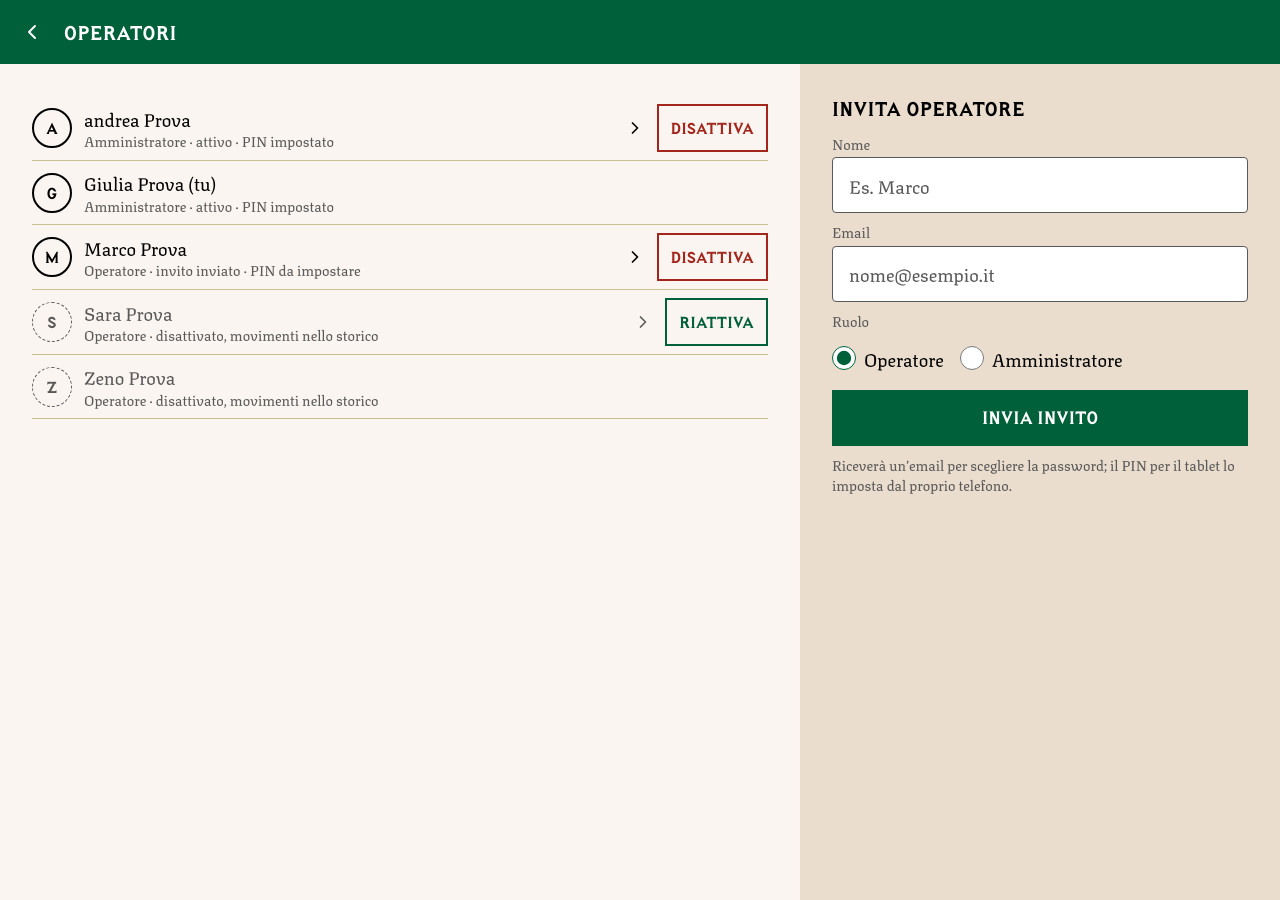
Test: OperatorsPage: Disattiva e Riattiva › deactivates an invited person too
What coordinates should you click on to do the following:
click the 2nd button "Disattiva"
I would click on:
 (712, 257)
Its box is [656,233,768,281].
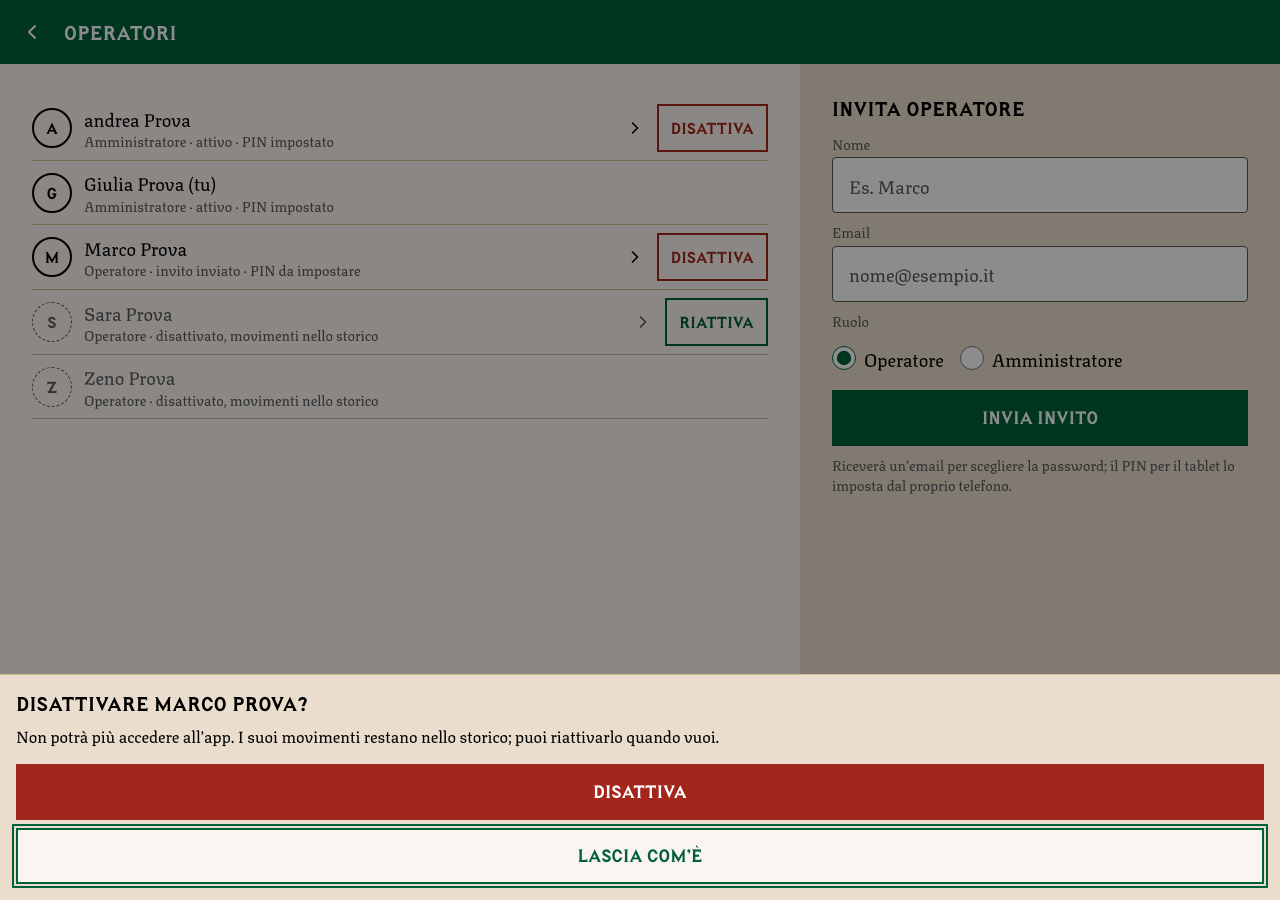
Expected: the heading "Disattivare Marco Prova?" is shown, [16,692,308,715]
What coordinates should you click on to do the following:
click the button "Disattiva"
I would click on:
 (640, 792)
Its box is [16,764,1264,820].
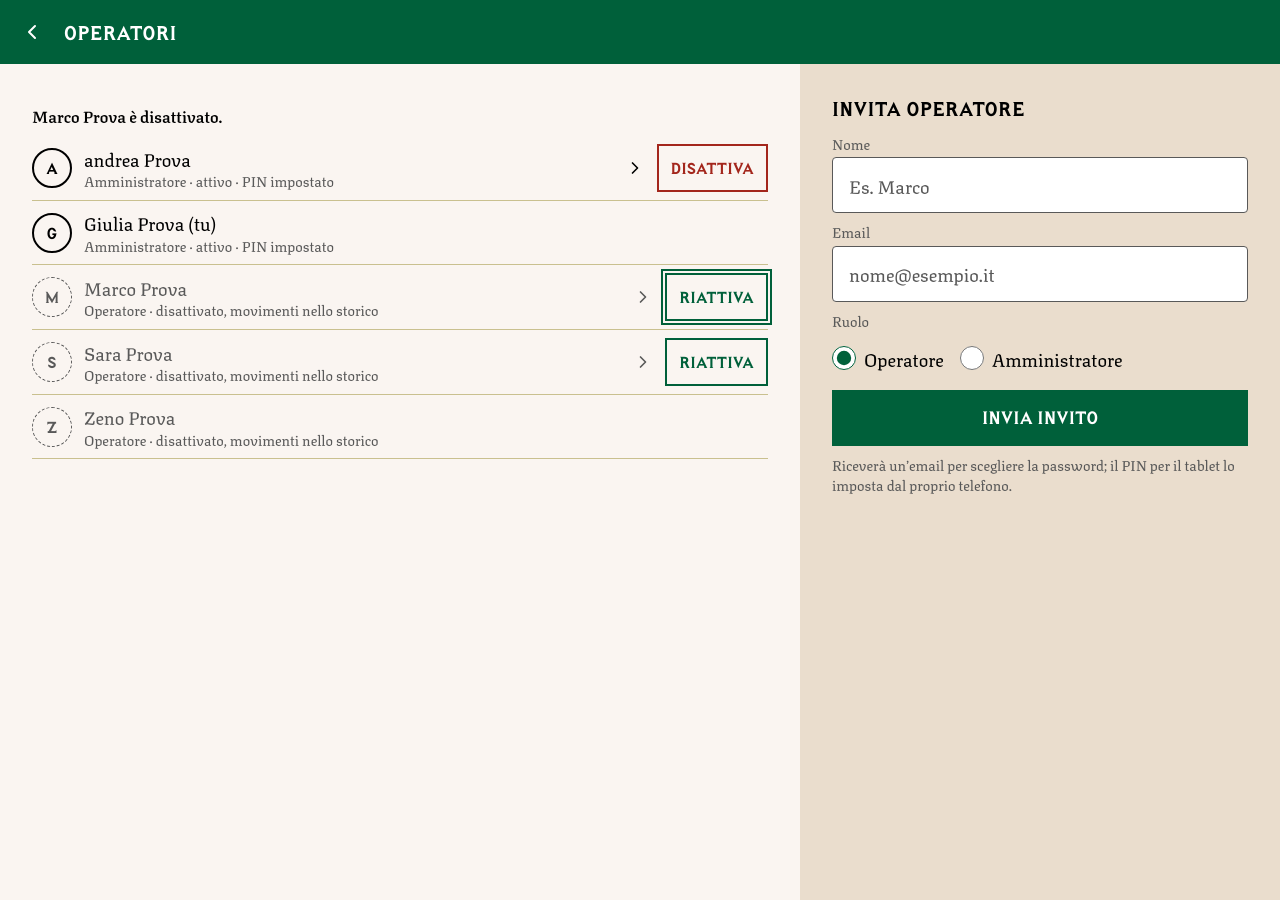
Expected: the text "Marco Prova è disattivato." is shown, [32,103,222,128]
